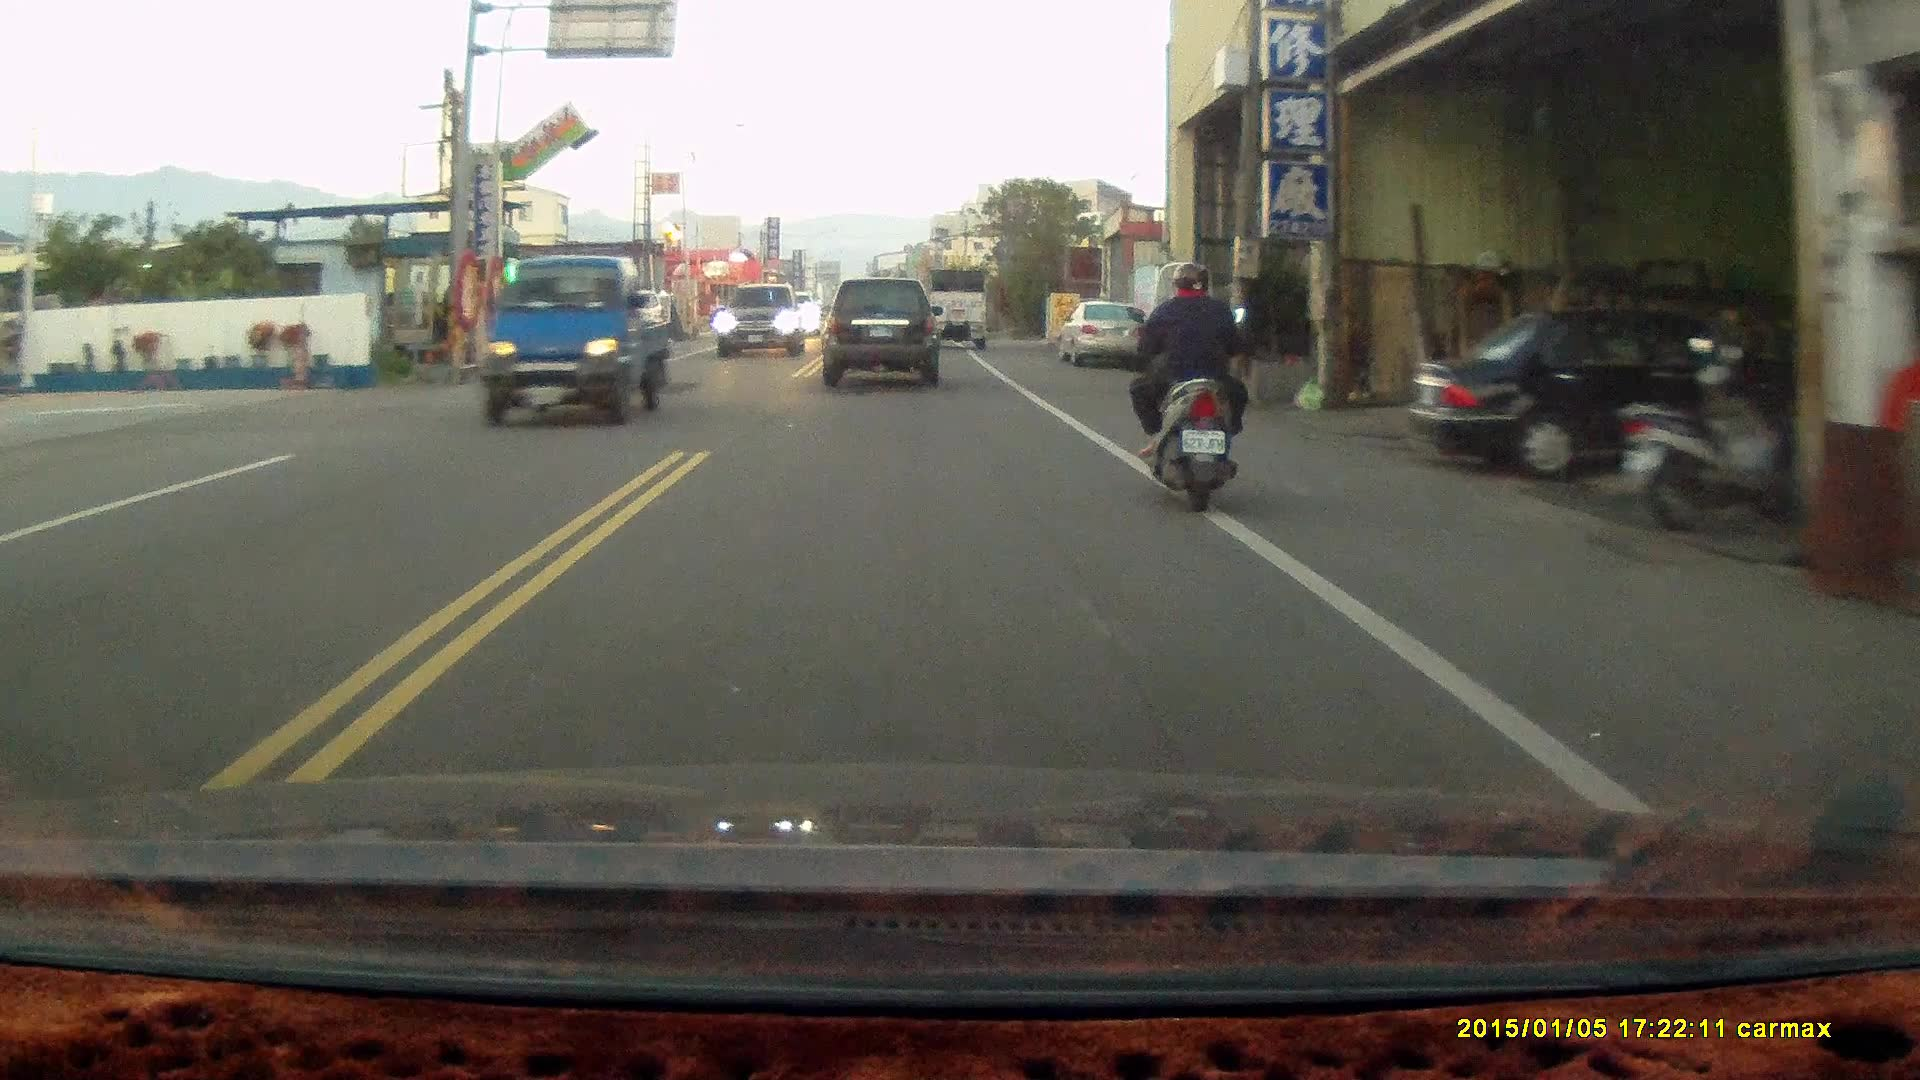rider: (1121, 258, 1247, 516)
vehicle: (1406, 302, 1824, 488), (478, 260, 680, 429), (823, 275, 942, 387), (1055, 297, 1154, 368), (719, 286, 811, 360), (924, 272, 992, 355)
